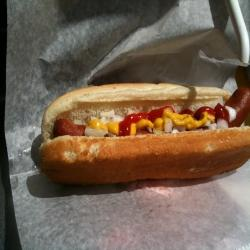hotdog: (33, 74, 248, 181)
